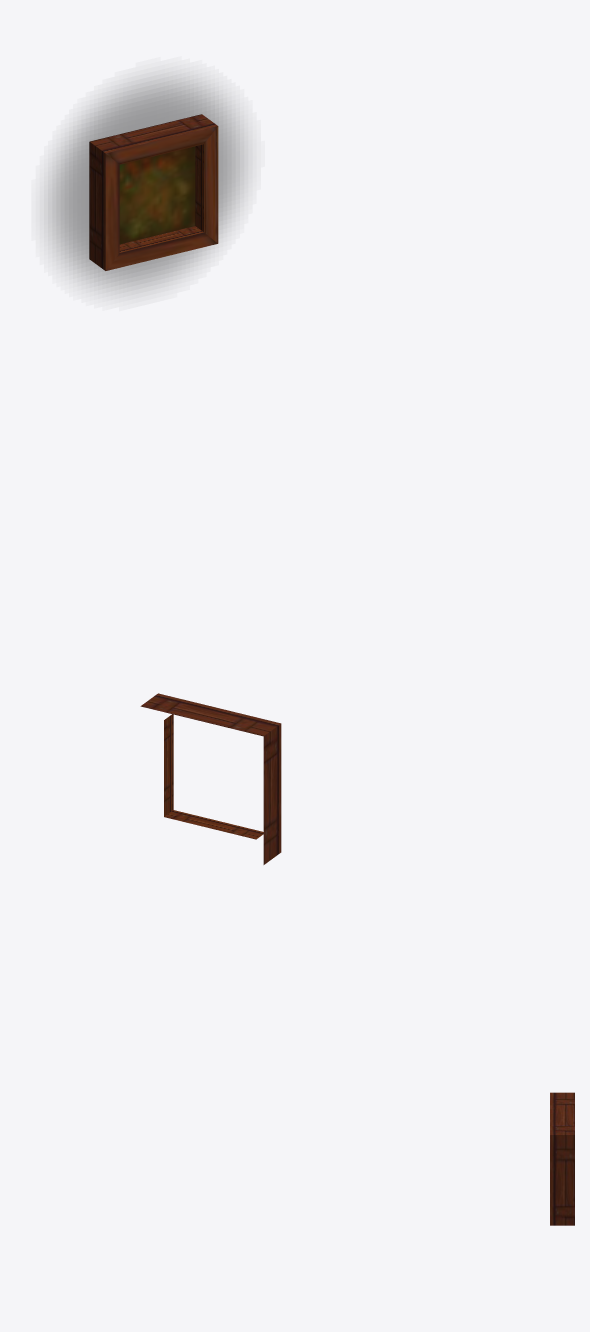
File: prop_snow_tree_large_woodbox_ul.glb
3 views of the same model, one above another, from view 1: azimuth 30°, elevation 25°; view 2: azimuth 150°, elevation 25°; view 3: azimuth 270°, elevation 25° (orthographic). The views are drawn at different scales.
Parts seen in each view (by area): view 1: tree_planter_box3, shadow_snow_tree_large_woodbox_ul; view 2: tree_planter_box3; view 3: tree_planter_box3.
Part boxes in pixels (<box>): tree_planter_box3: <box>89,114,218,270</box>; shadow_snow_tree_large_woodbox_ul: <box>48,76,244,292</box>; tree_planter_box3: <box>140,693,281,864</box>; tree_planter_box3: <box>550,1092,574,1225</box>.
Bounding box in the file's own units: 13.97 × 12.32 × 29.17.
4 materials, 4 textured.
